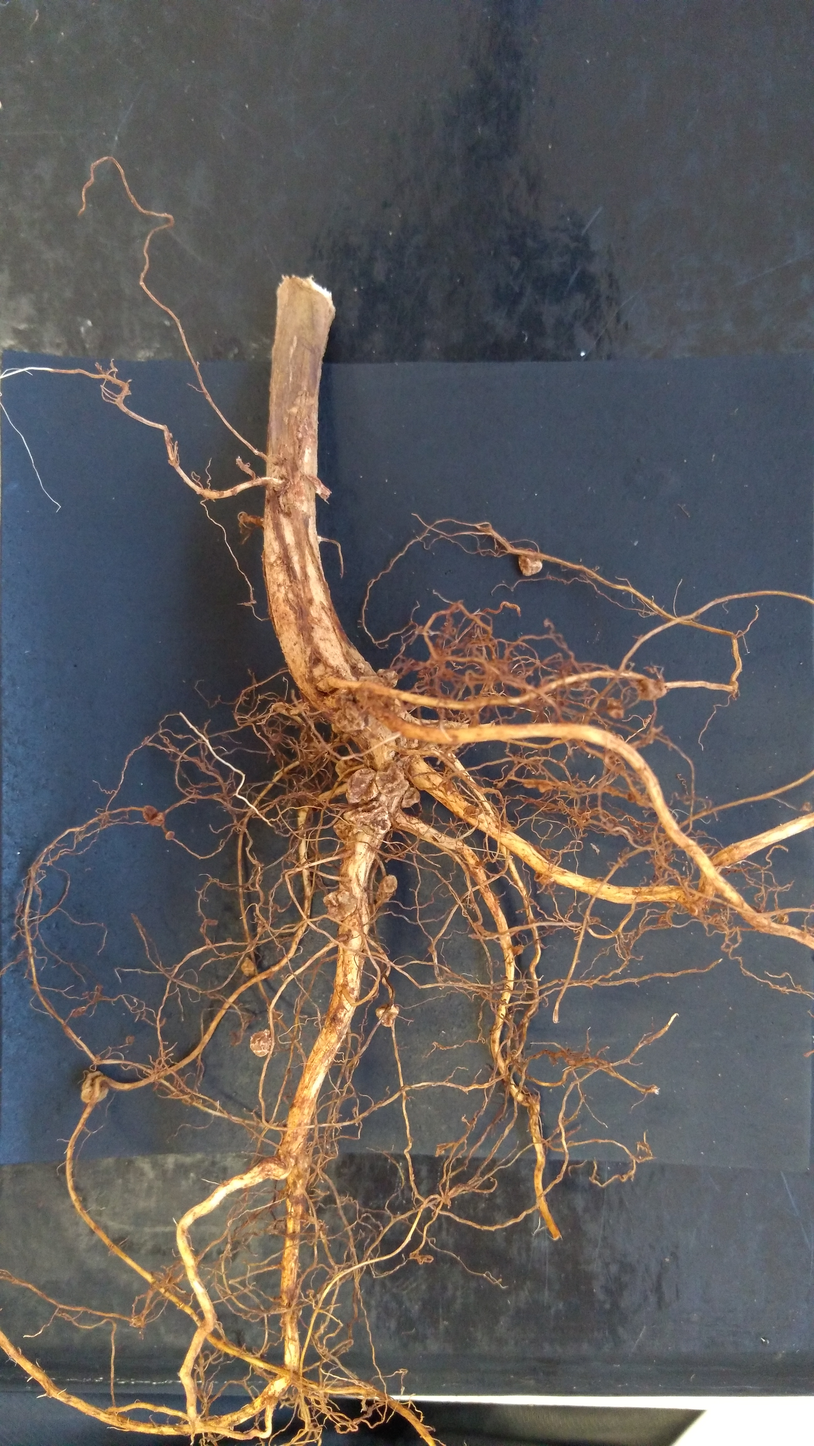nodule: (321, 686, 376, 735), (340, 804, 397, 838), (371, 752, 411, 800), (345, 767, 383, 806), (76, 1068, 115, 1105), (329, 756, 371, 787), (322, 889, 357, 921), (513, 549, 548, 578), (372, 1001, 403, 1032), (248, 1029, 276, 1063), (634, 677, 668, 701), (397, 782, 422, 810), (375, 873, 398, 903), (375, 665, 402, 689), (602, 748, 627, 773), (329, 819, 355, 843), (140, 804, 167, 827), (606, 696, 625, 720), (238, 955, 255, 980), (656, 913, 673, 929), (163, 828, 178, 843), (537, 780, 554, 793), (776, 908, 789, 923), (540, 874, 555, 886), (523, 777, 537, 789), (511, 944, 524, 955), (533, 870, 543, 881), (689, 904, 698, 916)
